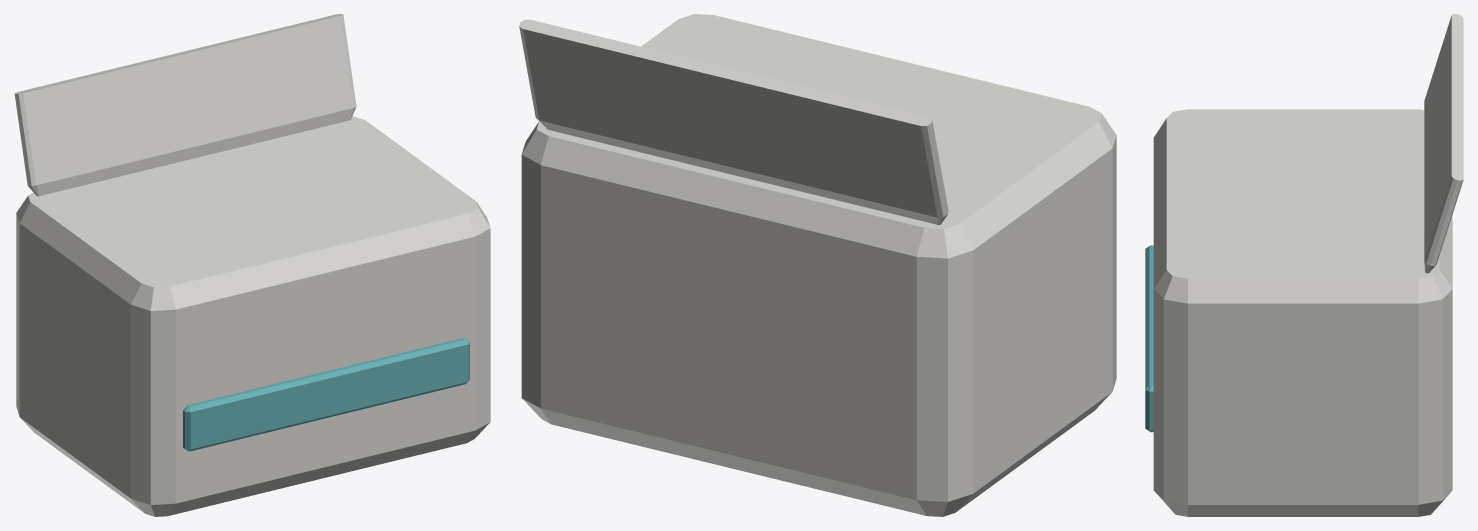
Rendered from fast-food-and-drive-thru-snack-carton-19ad7b9f__16173.glb.
3 renders of one model, left to right at view 1: azimuth 30°, elevation 25°; view 2: azimuth 150°, elevation 25°; view 3: azimuth 270°, elevation 25°, orthographic. The views are drawn at different scales.
Parts seen in each view (by area): view 1: snack-carton; view 2: snack-carton; view 3: snack-carton.
Part boxes in pixels (left/top/right/bottom): snack-carton: left=14, top=14, right=490, bottom=516; snack-carton: left=519, top=14, right=1116, bottom=516; snack-carton: left=1145, top=14, right=1463, bottom=516.
Size of the model in its own units: 0.1 by 0.0874 by 0.0746.
